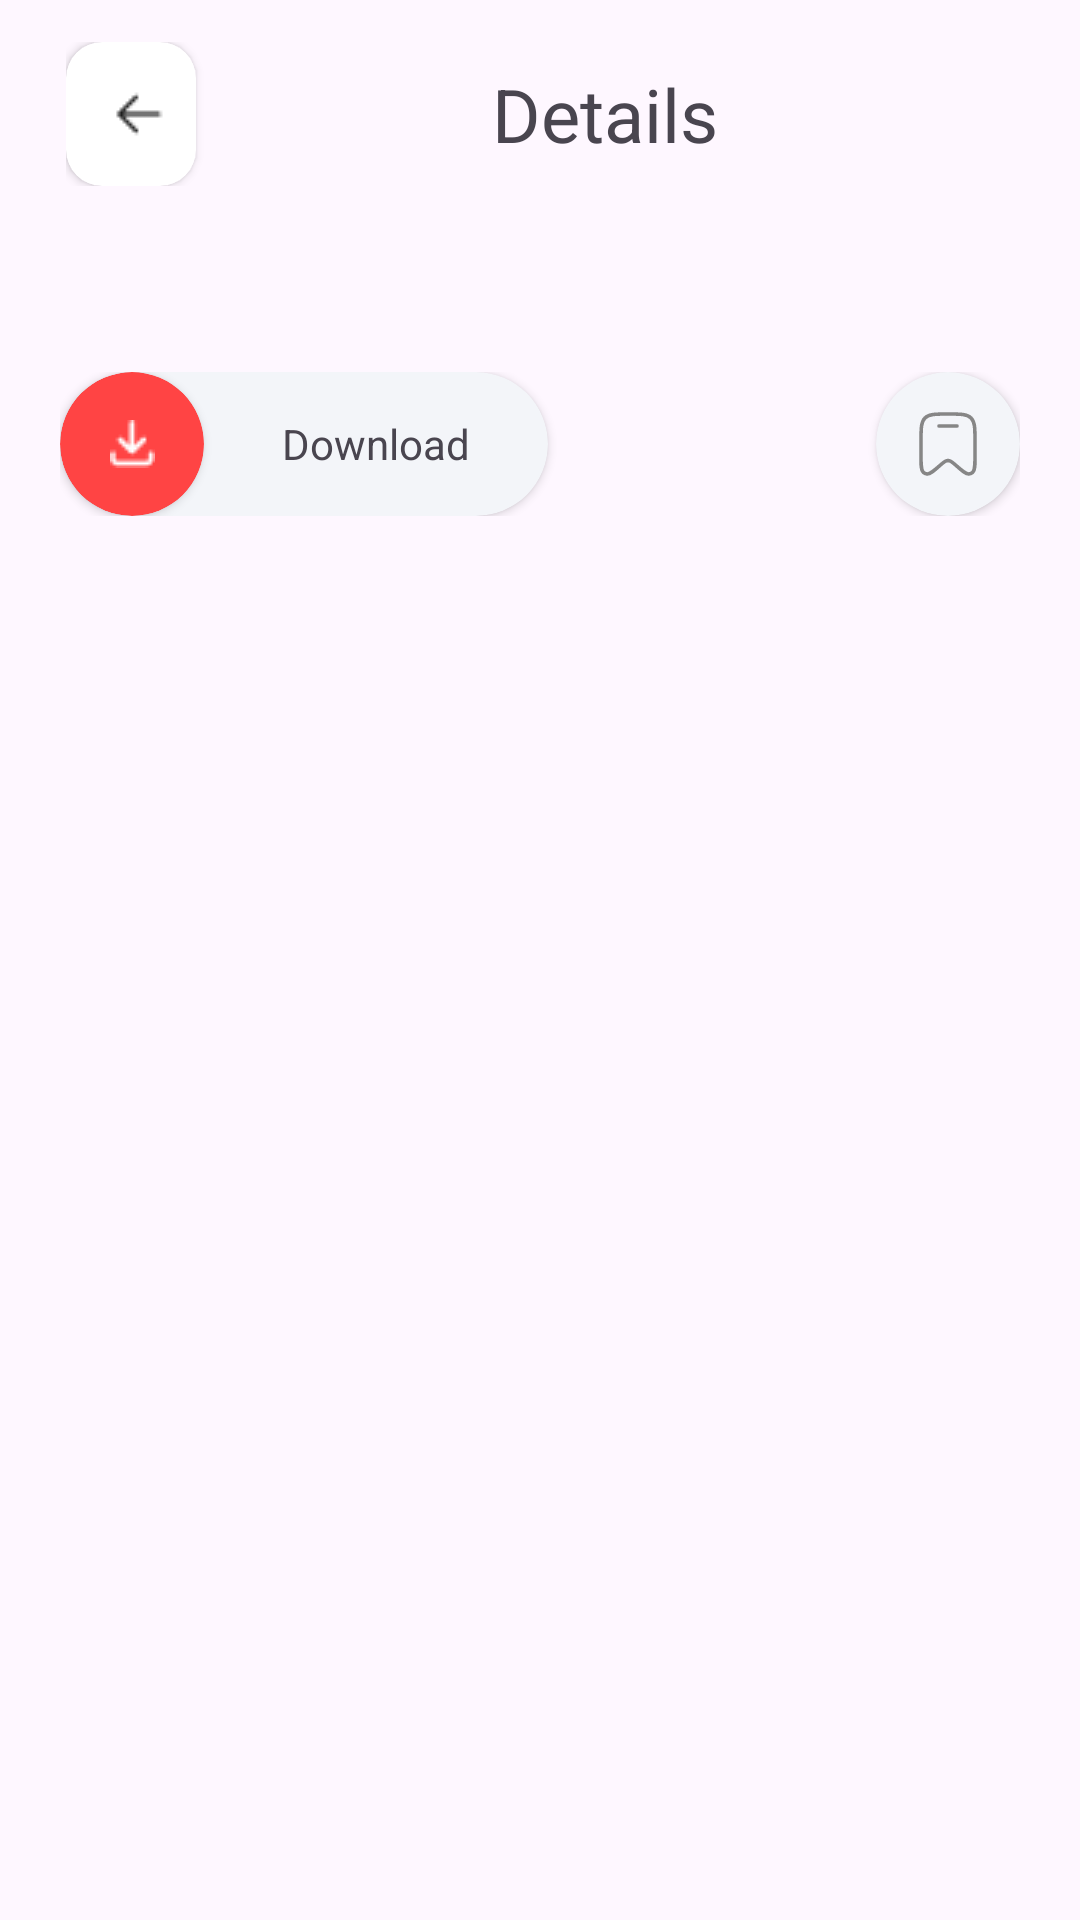

Icon bounding boxes for this 1080w x 1920h phone screenshot, format BBox(x1, y1, x2, y2):
back: BBox(66, 42, 196, 186)
favourites not: BBox(876, 372, 1020, 516)
